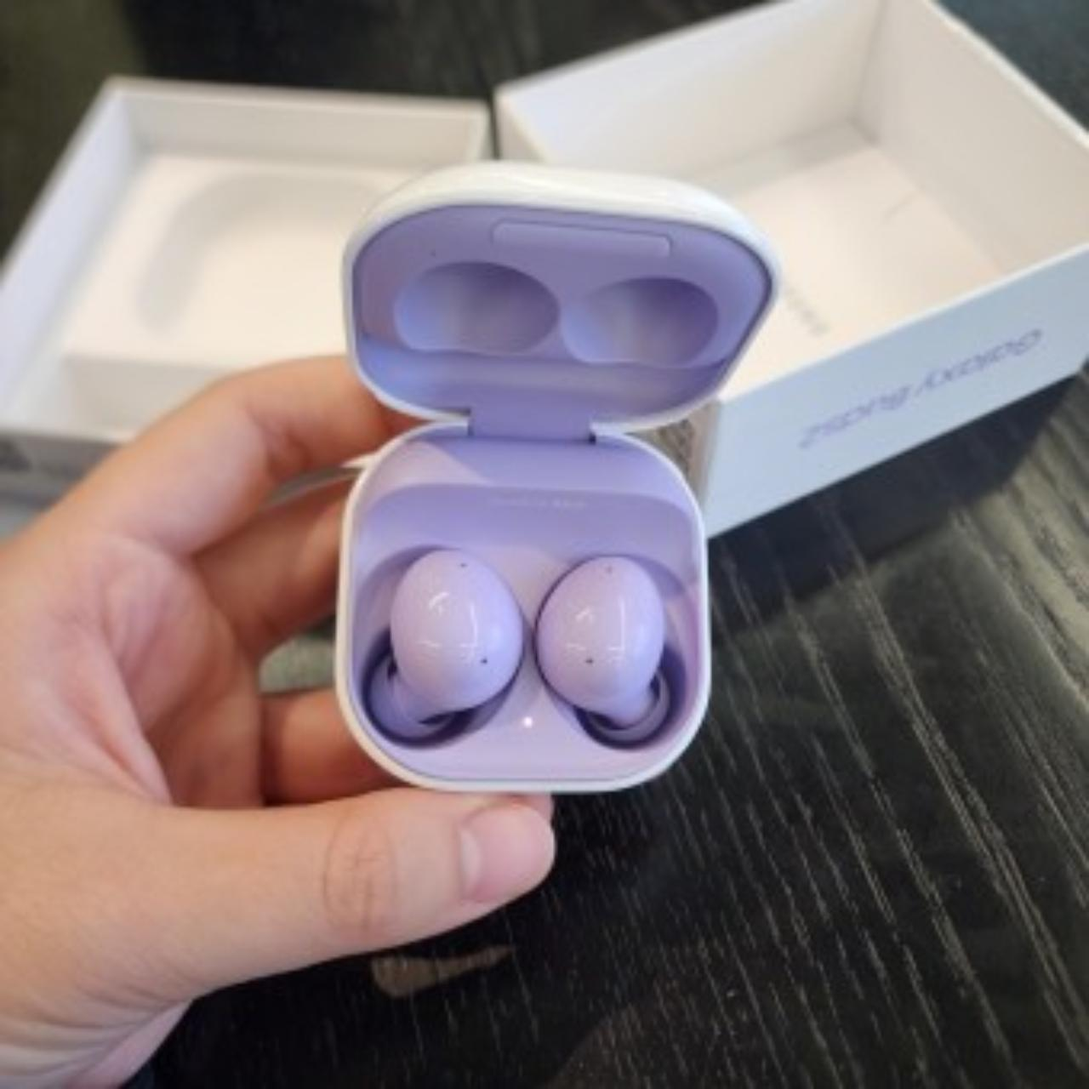Buds: (320, 156, 781, 800)
Buds_Units: (356, 539, 528, 753), (528, 550, 690, 755)
